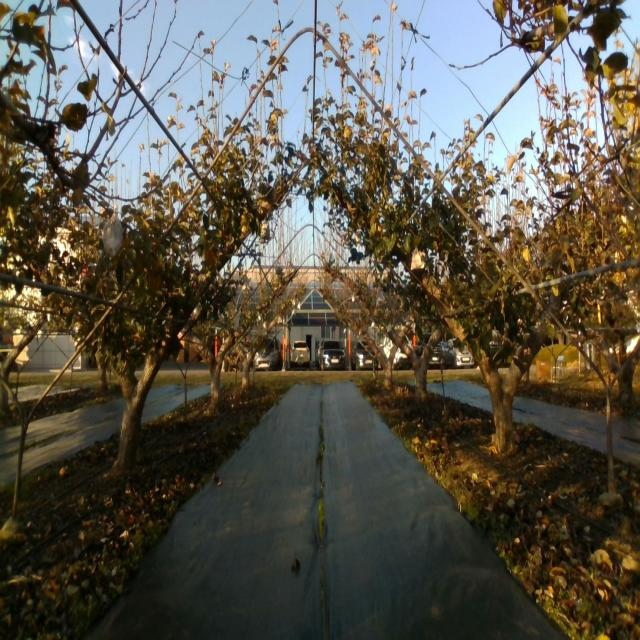pearbags: (102, 205, 124, 258), (410, 247, 425, 271), (260, 220, 270, 242)
